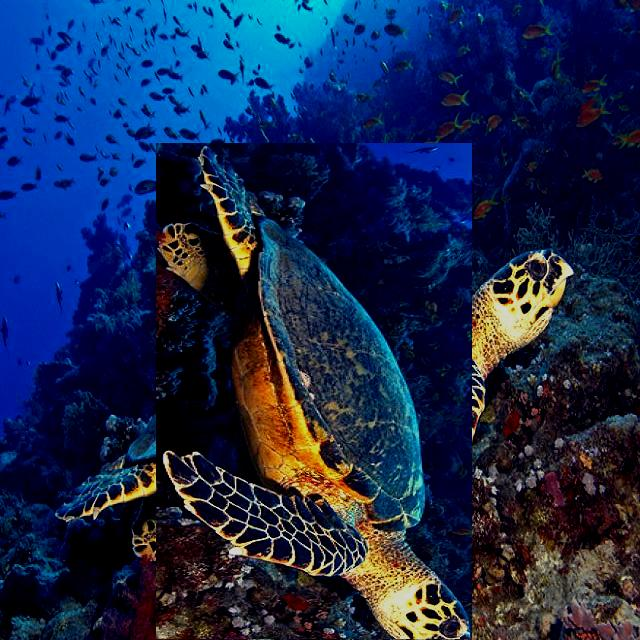Sea turtle: (104, 195, 524, 616)
